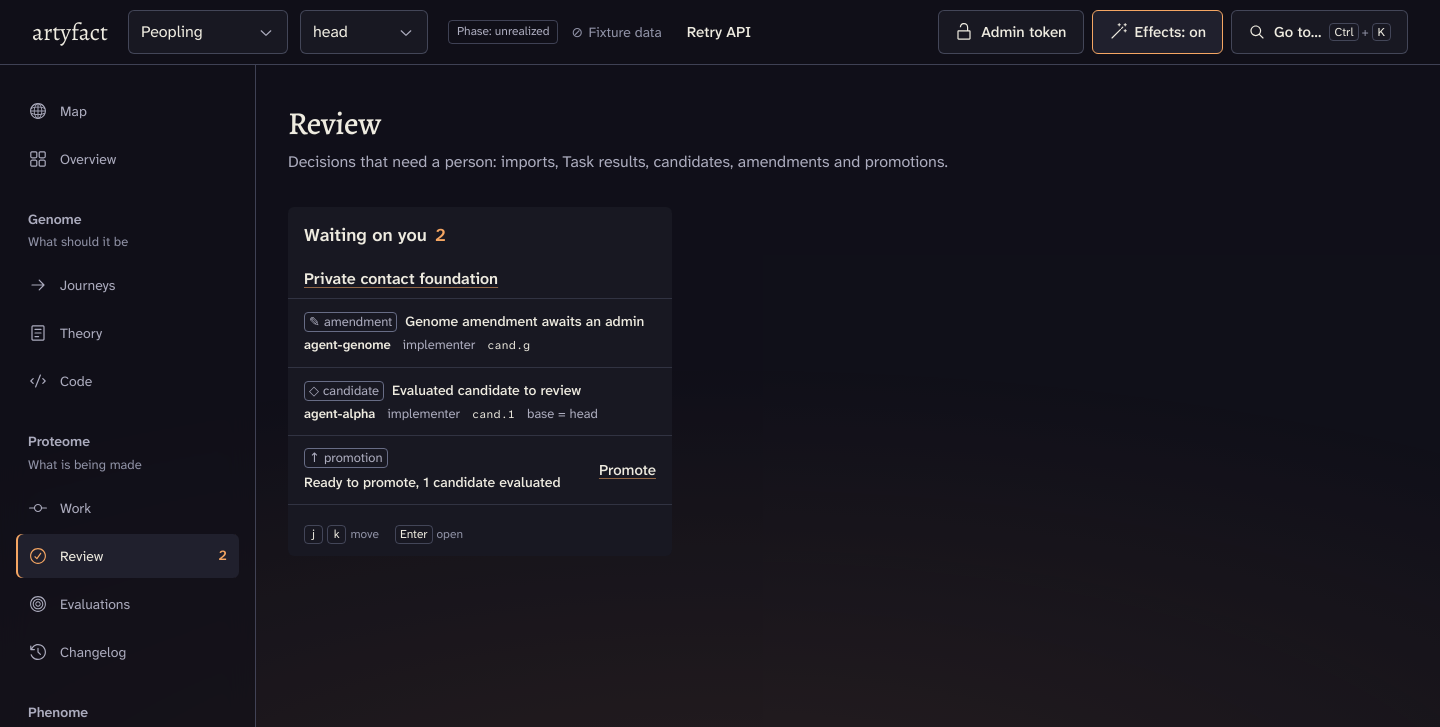
Review queue › opens a candidate row on the right with its review tabs and marks it current
Step 1. Click the link that starts with "candidate" → (451, 401), box [304,380,598,422]
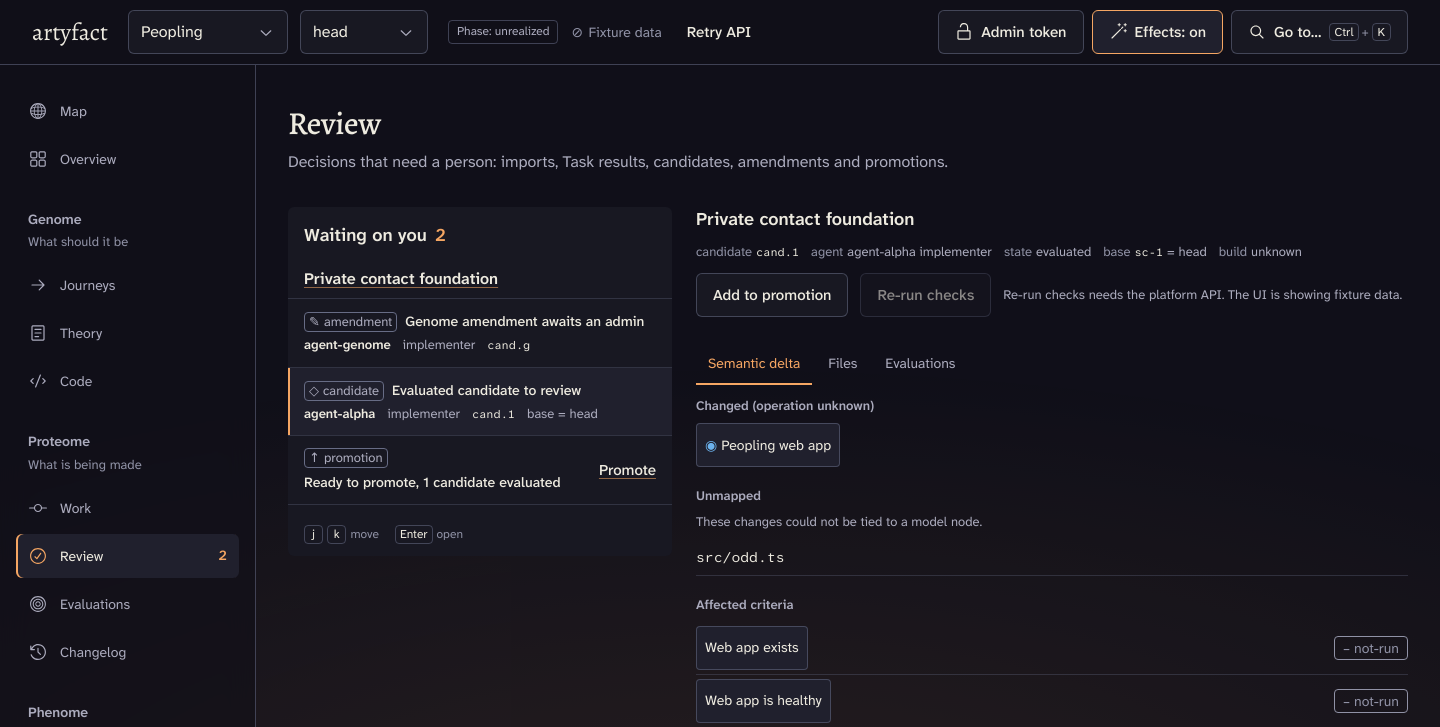
Check: the tabs read "Semantic delta", "Files", "Evaluations", in this order, box [696,341,812,385]; [816,341,869,385]; [873,341,967,385]
Check: the 1st heading "Private contact foundation" is shown, box [696,207,914,231]
